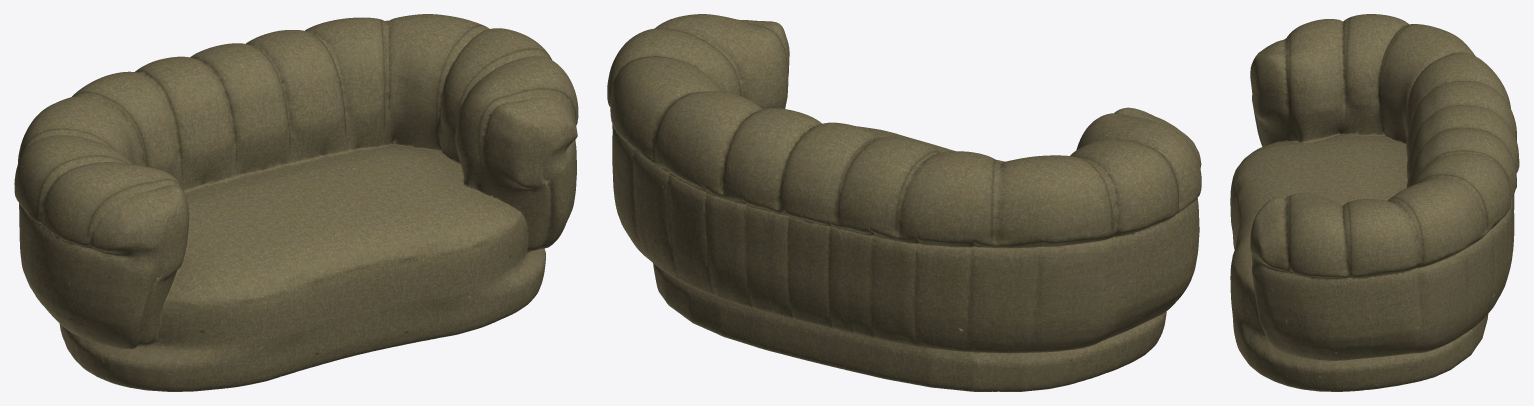
File: palma-2-seater-sofa.glb
3 renders of one model, left to right at view 1: azimuth 30°, elevation 25°; view 2: azimuth 150°, elevation 25°; view 3: azimuth 270°, elevation 25°, orthographic. The views are drawn at different scales.
Visible parts, largest first — view 1: sofa; view 2: sofa; view 3: sofa.
Part boxes in pixels (left/top/right/bottom): sofa: left=14, top=14, right=578, bottom=391; sofa: left=607, top=14, right=1201, bottom=391; sofa: left=1230, top=14, right=1519, bottom=391.
Bounding box in the file's own units: 1.89 × 0.74 × 1.03.
1 material, 1 textured.
